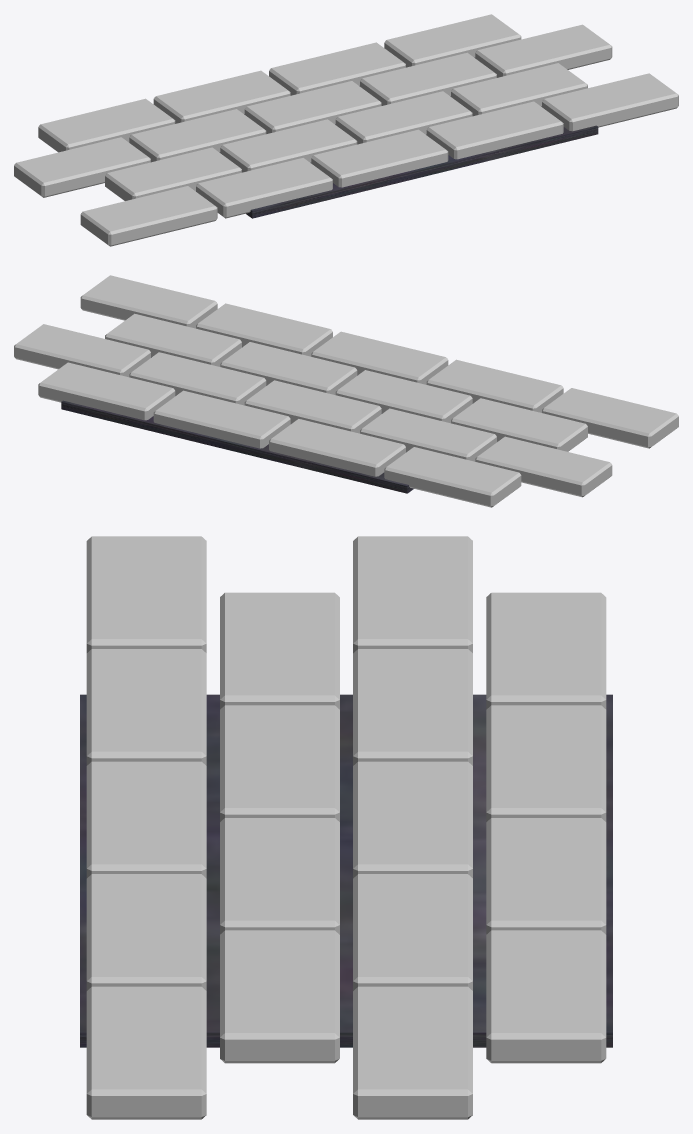
File: wall_ground.obj
3 views of the same model, one above another, from view 1: azimuth 30°, elevation 25°; view 2: azimuth 150°, elevation 25°; view 3: azimuth 270°, elevation 25° (orthographic). The views are drawn at different scales.
Visible parts, largest first — view 1: Stone_foundation, Stone_foundation.004, Stone_foundation.001, Stone_foundation.002, Stone_foundation.003, Stone_foundation.009, Stone_foundation.013, Stone_foundation.014, Stone_foundation.005, Stone_foundation.017, Stone_foundation.015, Stone_foundation.006 (+7 smaller); view 2: Stone_foundation.014, Stone_foundation.017, Stone_foundation.016, Stone_foundation.015, Stone_foundation.009, Stone_foundation, Stone_foundation.004, Stone_foundation.013, Stone_foundation.005, Stone_foundation.001, Stone_foundation.011, Stone_foundation.002 (+7 smaller); view 3: Mortar, Stone_foundation.004, Stone_foundation.017, Stone_foundation.013, Stone_foundation.008, Stone_foundation.014, Stone_foundation.002, Stone_foundation.016, Stone_foundation.001, Stone_foundation.003, Stone_foundation, Stone_foundation.015 (+7 smaller).
Part boxes in pixels (x1,y1,x2,y2): Stone_foundation: [80, 186, 217, 246]; Stone_foundation.004: [542, 73, 678, 131]; Stone_foundation.001: [196, 158, 332, 218]; Stone_foundation.002: [311, 129, 448, 187]; Stone_foundation.003: [426, 101, 563, 159]; Stone_foundation.009: [14, 137, 150, 197]; Stone_foundation.013: [475, 24, 612, 77]; Stone_foundation.014: [38, 98, 175, 152]; Stone_foundation.005: [105, 147, 241, 200]; Stone_foundation.017: [384, 14, 521, 67]; Stone_foundation.015: [153, 70, 290, 123]; Stone_foundation.006: [220, 119, 357, 172]; Stone_foundation.014: [384, 447, 521, 507]; Stone_foundation.017: [38, 362, 175, 420]; Stone_foundation.016: [153, 390, 290, 448]; Stone_foundation.015: [269, 419, 405, 476]; Stone_foundation.009: [475, 436, 612, 497]; Stone_foundation: [542, 388, 678, 448]; Stone_foundation.004: [80, 275, 217, 328]; Stone_foundation.013: [14, 324, 150, 377]; Stone_foundation.005: [451, 398, 587, 451]; Stone_foundation.001: [426, 359, 563, 412]; Stone_foundation.011: [244, 380, 381, 433]; Stone_foundation.002: [311, 331, 448, 384]; Mortar: [80, 694, 612, 1047]; Stone_foundation.004: [86, 986, 206, 1119]; Stone_foundation.017: [486, 930, 606, 1063]; Stone_foundation.013: [353, 986, 472, 1119]; Stone_foundation.008: [220, 930, 339, 1063]; Stone_foundation.014: [486, 592, 606, 709]; Stone_foundation.002: [86, 761, 206, 878]; Stone_foundation.016: [486, 818, 606, 934]; Stone_foundation.001: [86, 649, 206, 765]; Stone_foundation.003: [86, 874, 206, 990]; Stone_foundation: [86, 536, 206, 652]; Stone_foundation.015: [486, 705, 606, 821].
Size of the model in its own units: 79.2 by 2.5 by 32.
